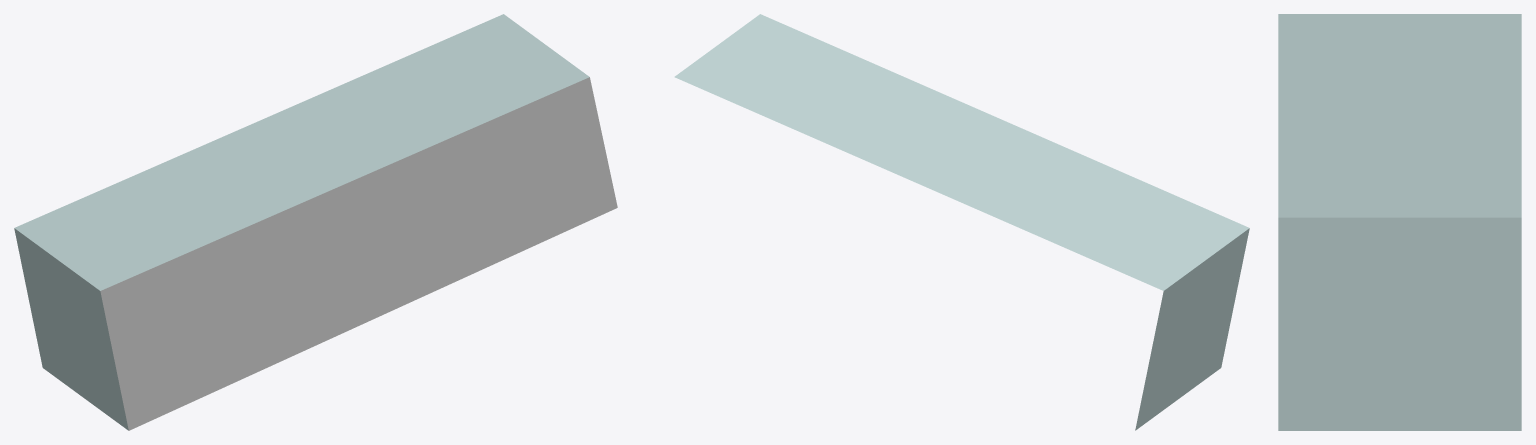
3 views of the same model, side by side, from view 1: azimuth 30°, elevation 25°; view 2: azimuth 150°, elevation 25°; view 3: azimuth 270°, elevation 25° (orthographic). The views are drawn at different scales.
Visible parts, largest first — view 1: 0_2_2_1_0_3_1_1; view 2: 0_2_2_1_0_3_1_1; view 3: 0_2_2_1_0_3_1_1.
Part boxes in pixels (left/top/right/bottom): 0_2_2_1_0_3_1_1: left=14, top=14, right=617, bottom=430; 0_2_2_1_0_3_1_1: left=674, top=14, right=1249, bottom=430; 0_2_2_1_0_3_1_1: left=1278, top=14, right=1521, bottom=430.
Size of the model in its own units: 10.4 by 4.64 by 3.
